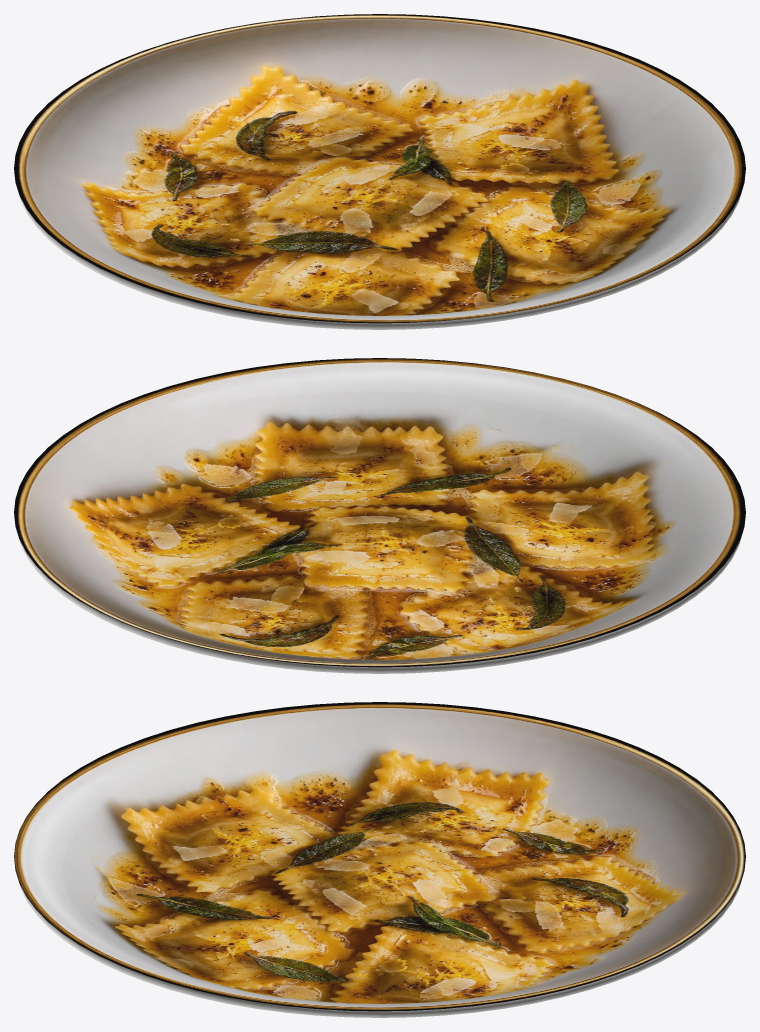
File: ravioli.glb
The picture shows the model from 3 angles, top to bottom: view 1: azimuth 30°, elevation 25°; view 2: azimuth 150°, elevation 25°; view 3: azimuth 270°, elevation 25°; orthographic projection.
Parts seen in each view (by area): view 1: dish; view 2: dish; view 3: dish.
Boxes of the visible parts, x1,y1,x2,y2 form: dish: (14,14,745,329); dish: (14,358,745,673); dish: (14,702,745,1017).
Size of the model in its own units: 0.27 by 0.025 by 0.27.
Materials: 2 (1 with a texture image).
